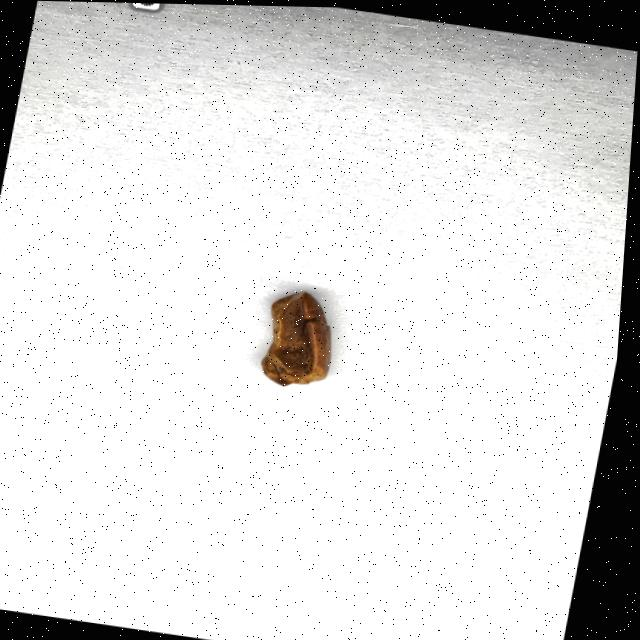Broken: (260, 285, 348, 391)
